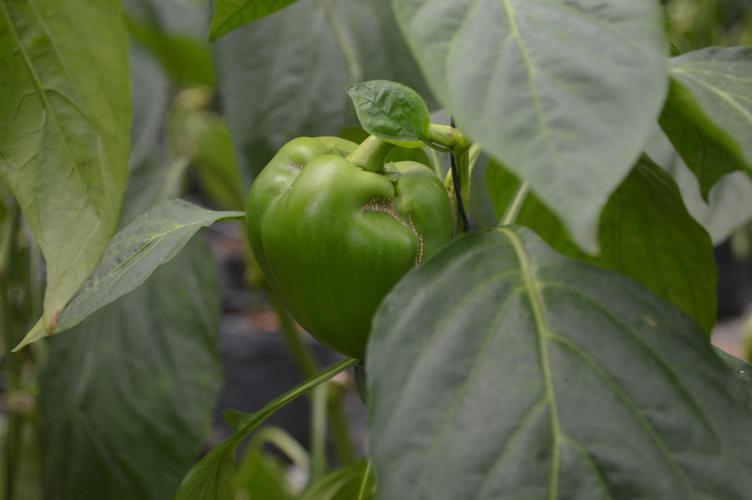BellPepper: (238, 135, 458, 356)
